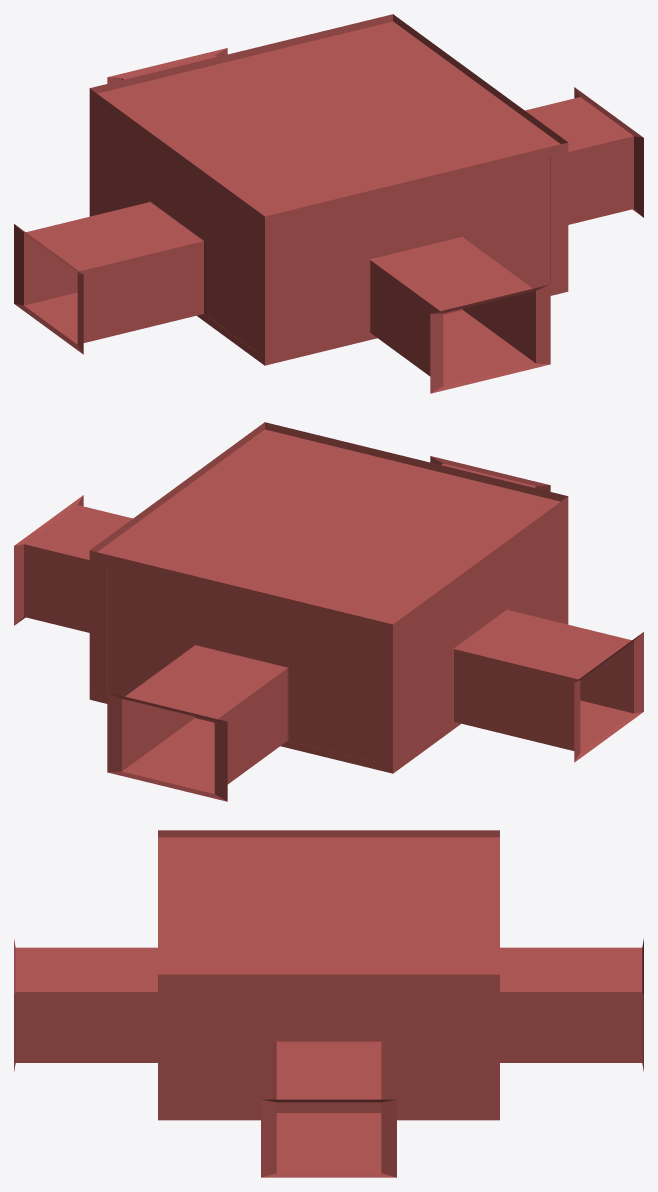
File: Room_Exit_1.fbx
The picture shows the model from 3 angles, top to bottom: view 1: azimuth 30°, elevation 25°; view 2: azimuth 150°, elevation 25°; view 3: azimuth 270°, elevation 25°; orthographic projection. The views are drawn at different scales.
Visible parts, largest first — view 1: Room_Exit_4_V3; view 2: Room_Exit_4_V3; view 3: Room_Exit_4_V3.
Part boxes in pixels (x1,y1,x2,y2): Room_Exit_4_V3: [14, 14, 643, 393]; Room_Exit_4_V3: [14, 422, 643, 801]; Room_Exit_4_V3: [14, 830, 643, 1177].
Bounding box in the file's own units: 80559 × 20500 × 80435.
